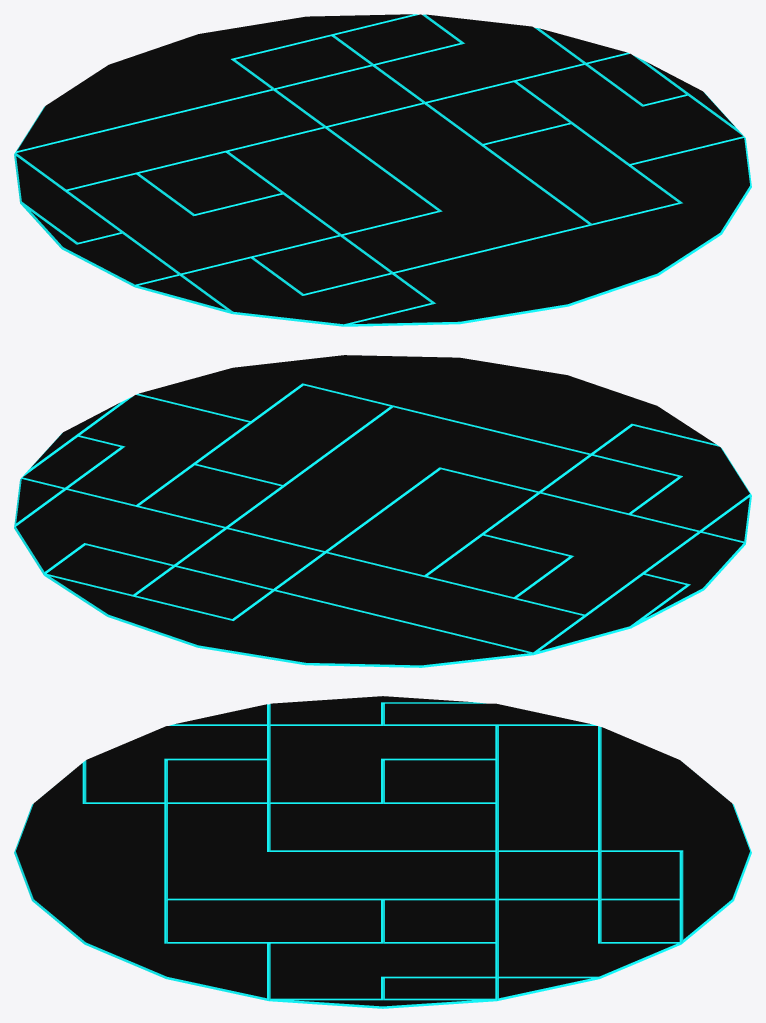
File: Cyberpunk Round Tile.007.glb
3 views of the same model, one above another, from view 1: azimuth 30°, elevation 25°; view 2: azimuth 150°, elevation 25°; view 3: azimuth 270°, elevation 25° (orthographic).
Visible parts, largest first — view 1: Cyberpunk Round Tile.007; view 2: Cyberpunk Round Tile.007; view 3: Cyberpunk Round Tile.007.
Boxes of the visible parts, left/top/right/bottom form: Cyberpunk Round Tile.007: left=14, top=14, right=751, bottom=326; Cyberpunk Round Tile.007: left=14, top=355, right=751, bottom=667; Cyberpunk Round Tile.007: left=14, top=696, right=751, bottom=1008.
Bounding box in the file's own units: 0.845 × 0.00211 × 0.845.
Materials: 1 (1 with a texture image).
